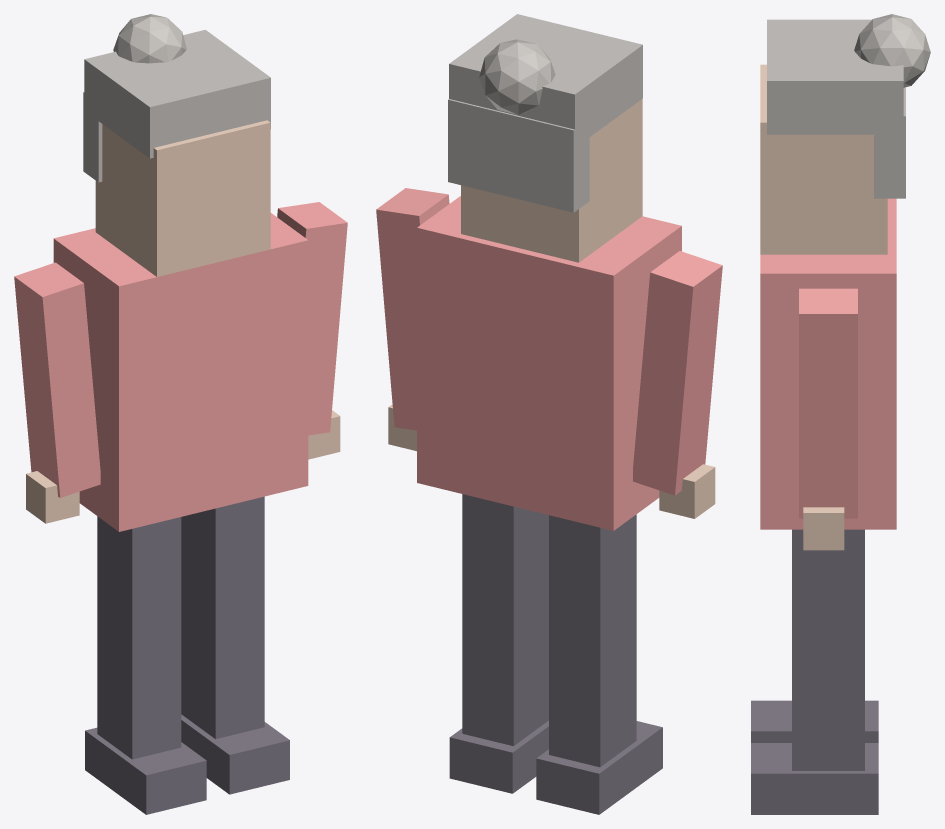
Rendered from rosa.glb.
The picture shows the model from 3 angles, left to right: view 1: azimuth 30°, elevation 25°; view 2: azimuth 150°, elevation 25°; view 3: azimuth 270°, elevation 25°; orthographic projection. The views are drawn at different scales.
Parts seen in each view (by area): view 1: p4, p9, p1, p3, p5, p10, p7, p0, p2, p12, p6, p11 (+1 smaller); view 2: p4, p1, p3, p5, p9, p10, p11, p7, p0, p2, p12, p6 (+1 smaller); view 3: p4, p3, p9, p10, p7, p2, p12, p0, p11, p8.
Boxes of the visible parts, left/top/right/bottom form: p4: left=53, top=213, right=308, bottom=531; p9: left=95, top=120, right=270, bottom=276; p1: left=97, top=516, right=181, bottom=759; p3: left=181, top=496, right=264, bottom=739; p5: left=14, top=262, right=100, bottom=497; p10: left=84, top=29, right=270, bottom=158; p7: left=277, top=202, right=347, bottom=435; p0: left=85, top=727, right=206, bottom=814; p2: left=181, top=714, right=289, bottom=794; p12: left=113, top=14, right=186, bottom=63; p6: left=26, top=471, right=79, bottom=523; p11: left=83, top=92, right=102, bottom=182; p4: left=417, top=196, right=681, bottom=530; p1: left=549, top=514, right=636, bottom=767; p3: left=462, top=494, right=548, bottom=746; p5: left=633, top=251, right=722, bottom=495; p9: left=461, top=99, right=642, bottom=262; p10: left=449, top=14, right=642, bottom=144; p11: left=448, top=99, right=589, bottom=212; p7: left=376, top=188, right=449, bottom=430; p0: left=536, top=721, right=662, bottom=814; p2: left=449, top=720, right=548, bottom=793; p12: left=479, top=39, right=555, bottom=114; p6: left=659, top=464, right=715, bottom=518; p4: left=760, top=198, right=896, bottom=529; p3: left=792, top=529, right=864, bottom=770; p9: left=760, top=64, right=887, bottom=254; p10: left=767, top=19, right=903, bottom=134; p7: left=799, top=288, right=857, bottom=518; p2: left=751, top=743, right=878, bottom=814; p12: left=854, top=14, right=930, bottom=87; p0: left=751, top=700, right=878, bottom=742; p11: left=874, top=87, right=905, bottom=198; p8: left=803, top=507, right=844, bottom=550.
Size of the model in its own units: 0.8063 by 1.85 by 0.395.
